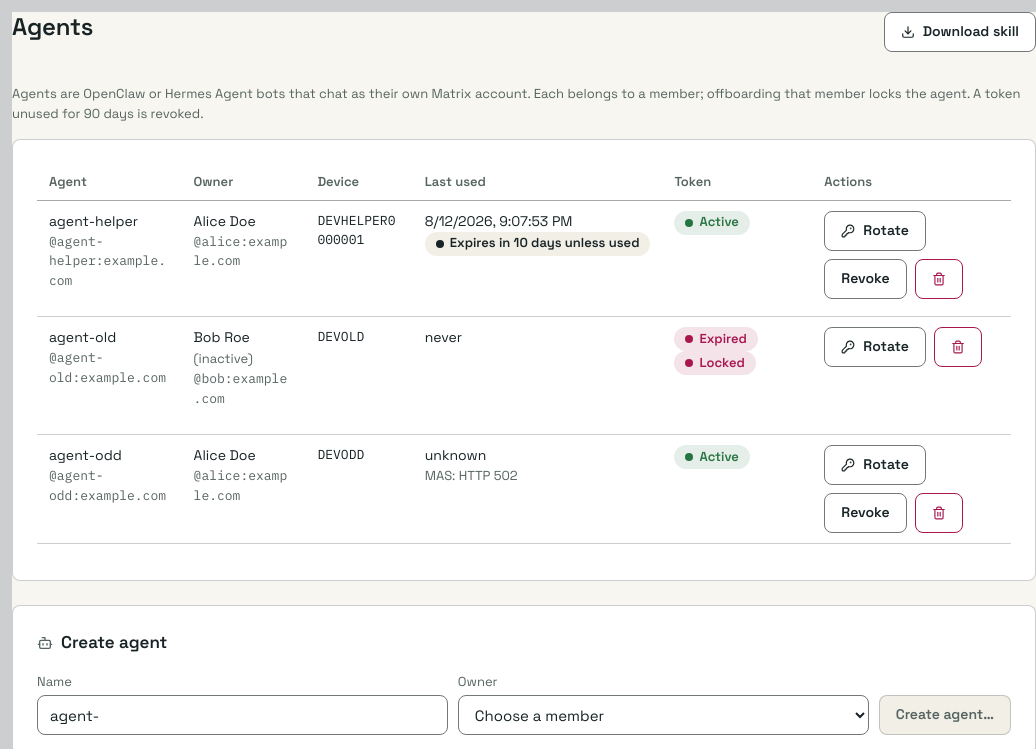
Test: Agents › refuses a malformed token reply without showing anything of it
Step 1. Click the button with aria-label "Rotate token of agent-helper" → (875, 230), box [824, 210, 926, 250]
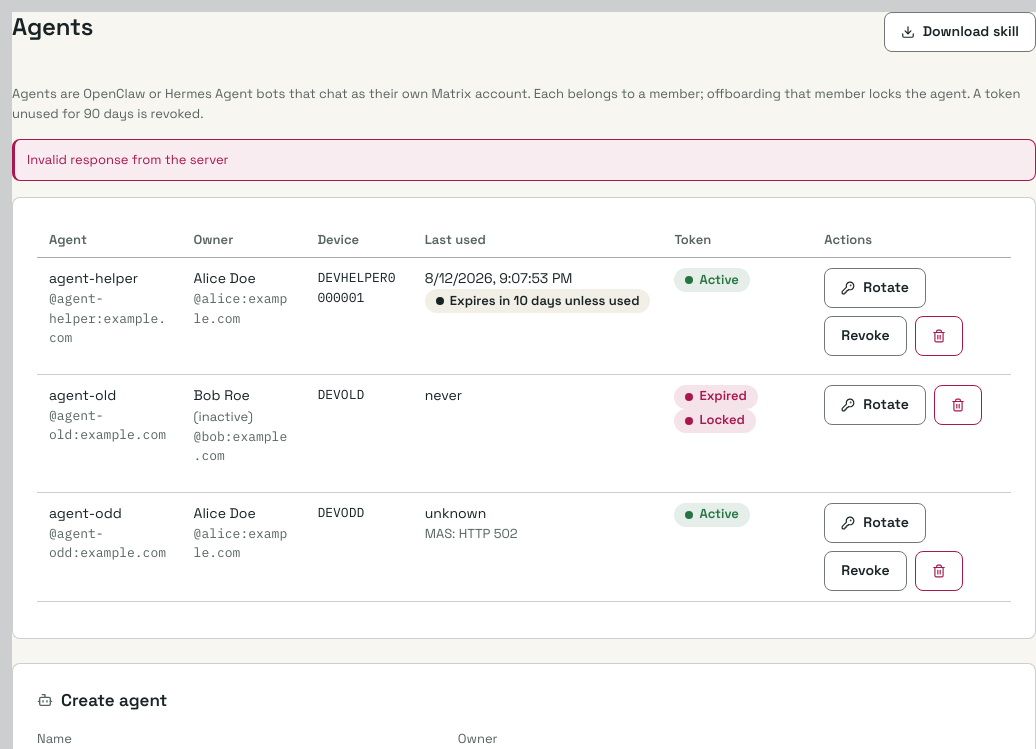
Result: the message reads "Invalid response from the server" at [27, 151, 228, 168]
